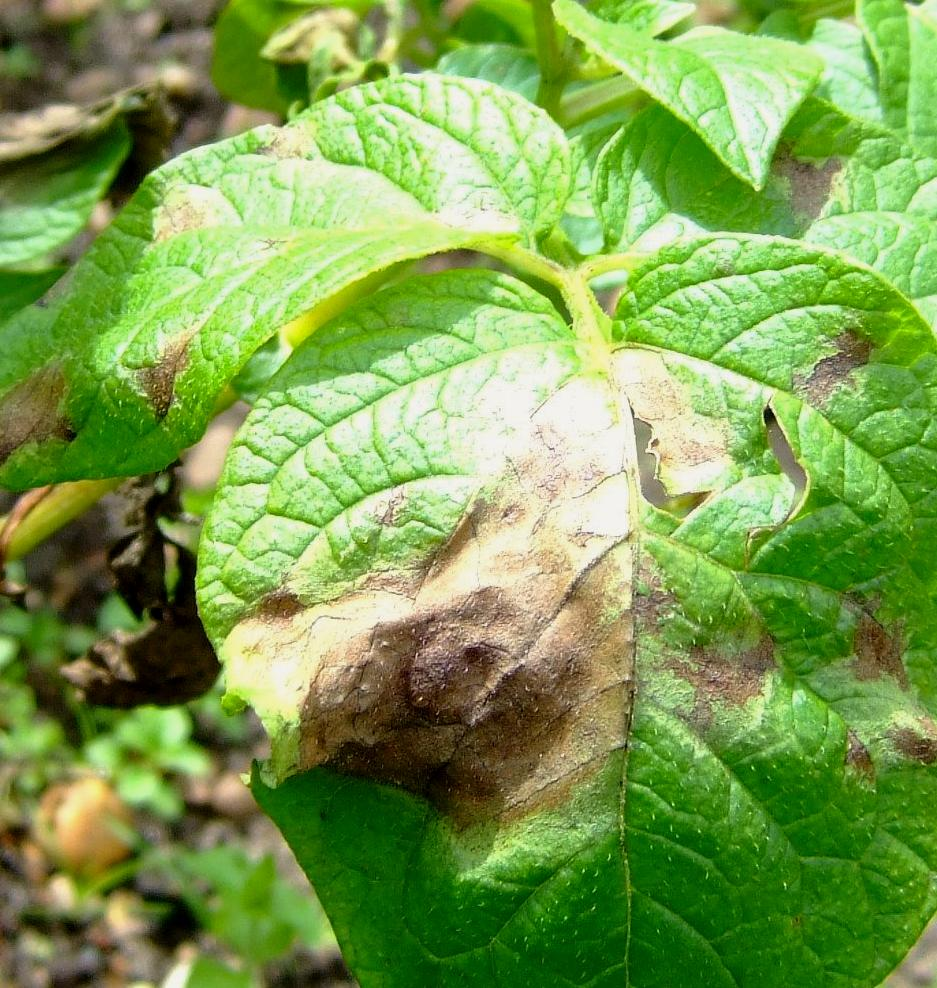Tomato leaf late blight: (197, 242, 937, 988)
